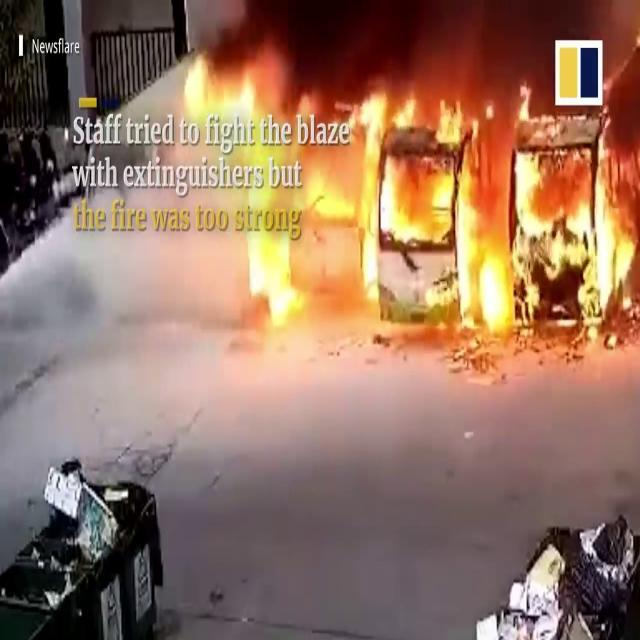Fire: (197, 40, 541, 344), (480, 116, 637, 350)
